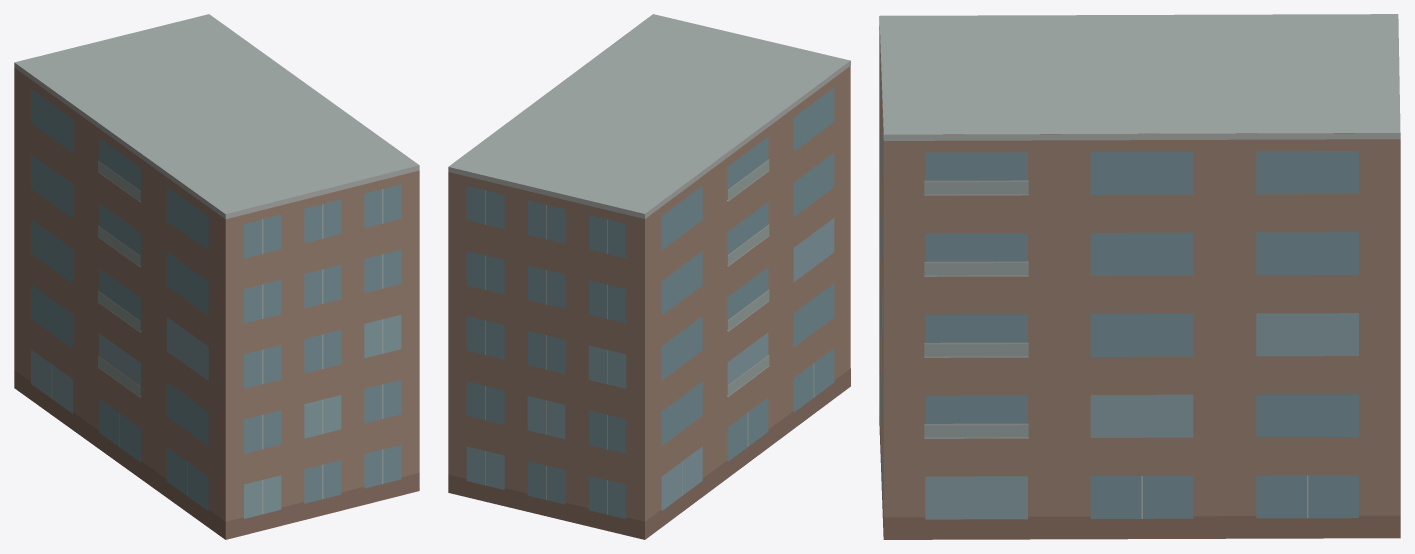
Rendered from survey-upis-32551913.glb.
3 views of the same model, side by side, from view 1: azimuth 30°, elevation 25°; view 2: azimuth 150°, elevation 25°; view 3: azimuth 270°, elevation 25° (orthographic). The views are drawn at different scales.
Visible parts, largest first — view 1: survey-upis-32551913.tmp; view 2: survey-upis-32551913.tmp; view 3: survey-upis-32551913.tmp.
Part boxes in pixels (<box>): survey-upis-32551913.tmp: <box>14,14,419,539</box>; survey-upis-32551913.tmp: <box>448,14,850,539</box>; survey-upis-32551913.tmp: <box>879,14,1400,539</box>.
Size of the model in its own units: 9.99 by 15.6 by 18.19.
